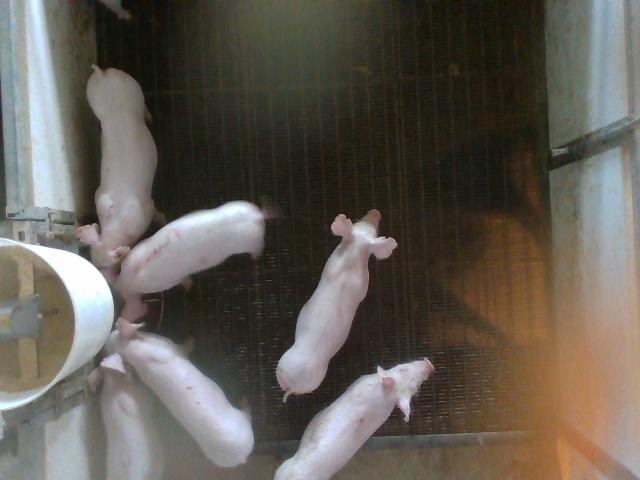pig-3: (115, 201, 265, 294)
